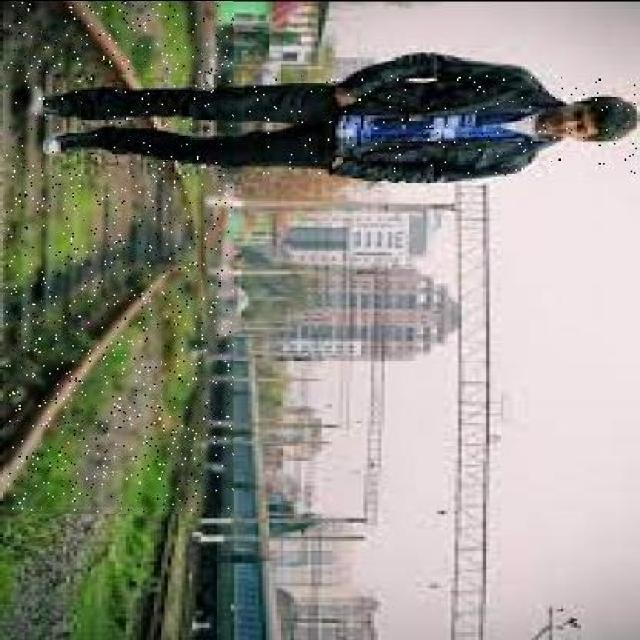rail: (7, 2, 234, 508)
